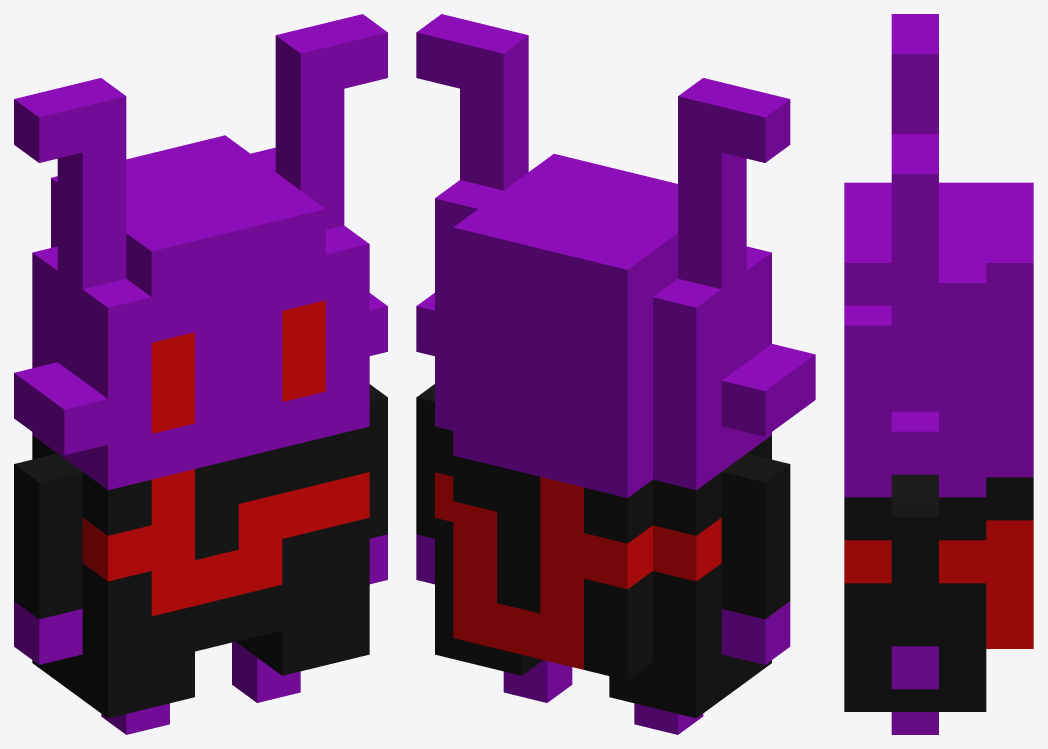
Rendered from Alien4.obj.
3 renders of one model, left to right at view 1: azimuth 30°, elevation 25°; view 2: azimuth 150°, elevation 25°; view 3: azimuth 270°, elevation 25°, orthographic. The views are drawn at different scales.
Bounding box in the file's own units: 8 × 14 × 4.
Materials: 1 (1 with a texture image).
